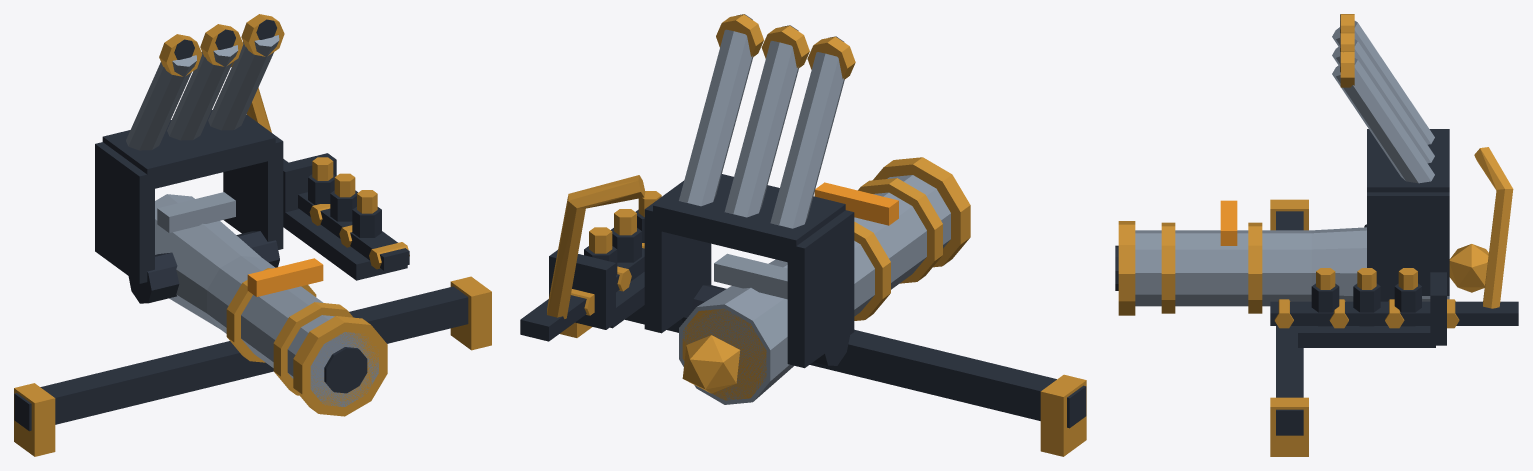
The model's file is CannonA1.obj.
3 renders of one model, left to right at view 1: azimuth 30°, elevation 25°; view 2: azimuth 150°, elevation 25°; view 3: azimuth 270°, elevation 25°, orthographic. The views are drawn at different scales.
Visible parts, largest first — view 1: CannonA1; view 2: CannonA1; view 3: CannonA1.
Boxes of the visible parts, x1,y1,x2,y2 form: CannonA1: [14, 14, 491, 456]; CannonA1: [520, 14, 1086, 456]; CannonA1: [1115, 14, 1518, 456].
Size of the model in its own units: 1.8 by 1.28 by 1.46.
